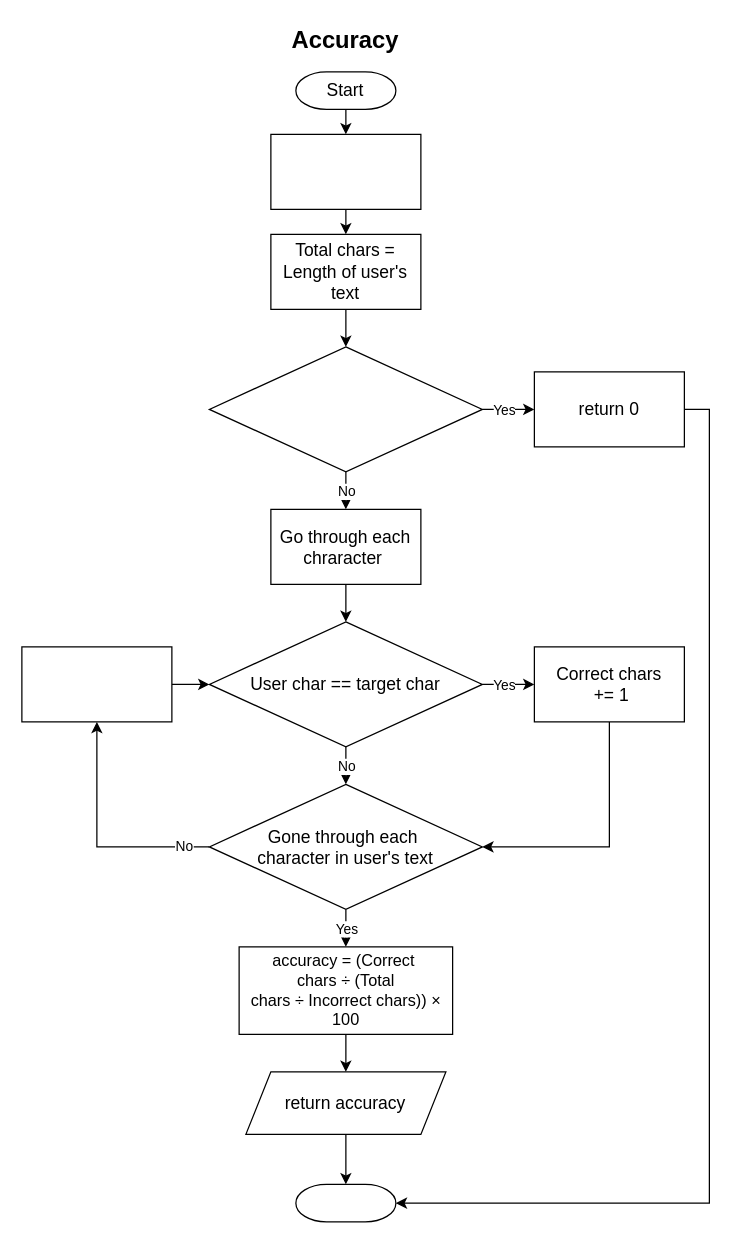
Image size: 741x1244. Some labels were removed from this diagram. The centre of each missing label's shape, as x and y in pixels:
"Correct chars = 0" goes at (345,171).
"End" goes at (345,1202).
"Next char" goes at (96,684).
"Total chars == 0" goes at (345,409).
